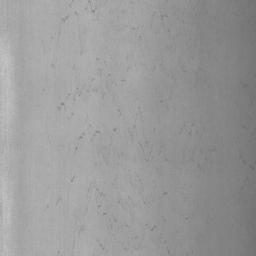Silk spot: (85, 0, 97, 14), (57, 102, 65, 111)
